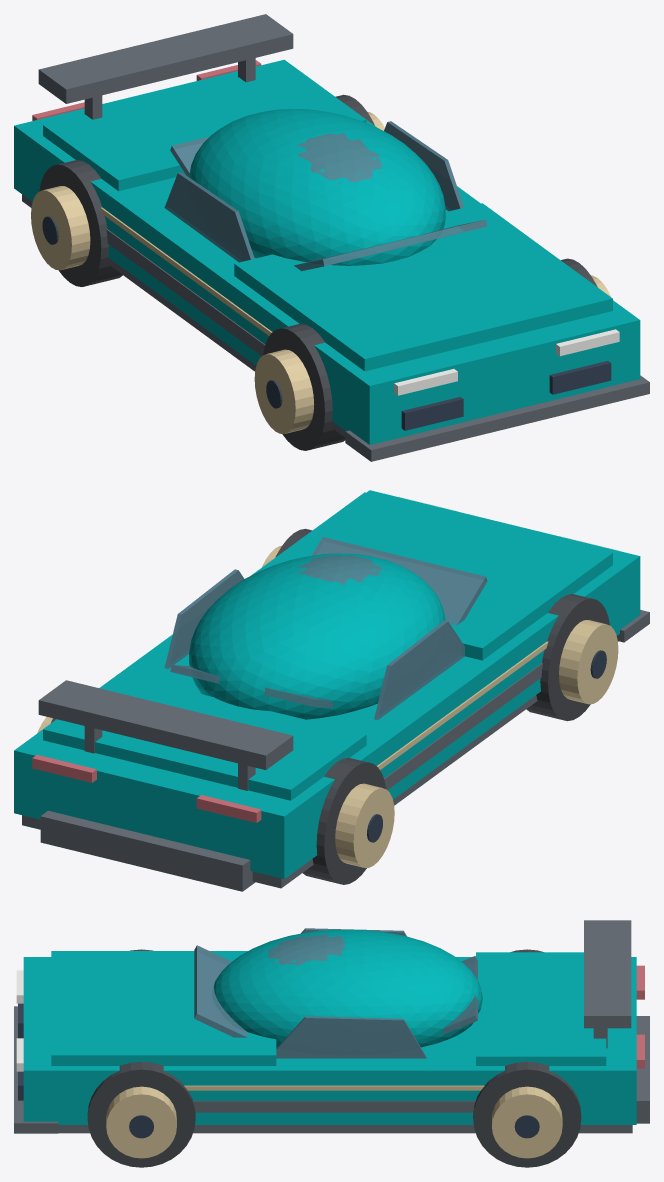
The model's file is velocity_r_hypercar.glb.
3 renders of one model, top to bottom at view 1: azimuth 30°, elevation 25°; view 2: azimuth 150°, elevation 25°; view 3: azimuth 270°, elevation 25°, orthographic. The views are drawn at different scales.
Parts seen in each view (by area): view 1: Lower_Body_Sculpt, Front_Bonnet, Canopy_Sculpt, Rear_Deck, Rear_Spoiler_Wing, Front_Splitter, Front_Tyre_L, Rear_Tyre_L, Side_Glass_L, Front_Alloy_L, Rear_Alloy_L, Panoramic_Glass_Roof (+10 smaller); view 2: Lower_Body_Sculpt, Canopy_Sculpt, Front_Bonnet, Rear_Deck, Rear_Spoiler_Wing, Rear_Diffuser, Side_Glass_L, Rear_Tyre_L, Front_Tyre_L, Rear_Alloy_L, Front_Alloy_L, Front_Windscreen (+8 smaller); view 3: Lower_Body_Sculpt, Canopy_Sculpt, Front_Bonnet, Rear_Deck, Side_Glass_R, Rear_Spoiler_Wing, Front_Tyre_R, Rear_Tyre_R, Rear_Alloy_R, Front_Alloy_R, Side_Sill_R, Carbon_Undertray (+8 smaller).
Boxes of the visible parts, x1,y1,x2,y2 form: Lower_Body_Sculpt: (14,59,640,444); Front_Bonnet: (234,203,612,371); Canopy_Sculpt: (189,109,445,265); Rear_Deck: (43,64,366,191); Rear_Spoiler_Wing: (38,14,293,103); Front_Splitter: (345,375,649,461); Front_Tyre_L: (263,323,345,450); Rear_Tyre_L: (39,160,122,286); Side_Glass_L: (164,172,254,262); Front_Alloy_L: (254,349,314,433); Rear_Alloy_L: (31,186,90,270); Panoramic_Glass_Roof: (297,133,381,183); Lower_Body_Sculpt: (14,490,640,879); Canopy_Sculpt: (189,553,445,719); Front_Bonnet: (251,492,612,660); Rear_Deck: (43,674,366,800); Rear_Spoiler_Wing: (38,680,293,769); Rear_Diffuser: (40,810,254,891); Side_Glass_L: (374,620,464,720); Rear_Tyre_L: (303,757,386,884); Front_Tyre_L: (526,594,609,721); Rear_Alloy_L: (335,783,394,868); Front_Alloy_L: (559,620,618,704); Front_Windscreen: (311,537,487,625); Lower_Body_Sculpt: (23,957,636,1124); Canopy_Sculpt: (214,929,482,1048); Front_Bonnet: (51,951,276,1065); Rear_Deck: (476,952,606,1065); Side_Glass_R: (276,1016,426,1058); Rear_Spoiler_Wing: (584,920,631,1028); Front_Tyre_R: (87,1061,195,1167); Rear_Tyre_R: (473,1061,581,1167); Rear_Alloy_R: (492,1086,562,1158); Front_Alloy_R: (106,1086,176,1158); Side_Sill_R: (193,1101,475,1112); Carbon_Undertray: (58,1125,632,1133).
Size of the model in its own units: 2.34 by 1.3 by 4.59.
